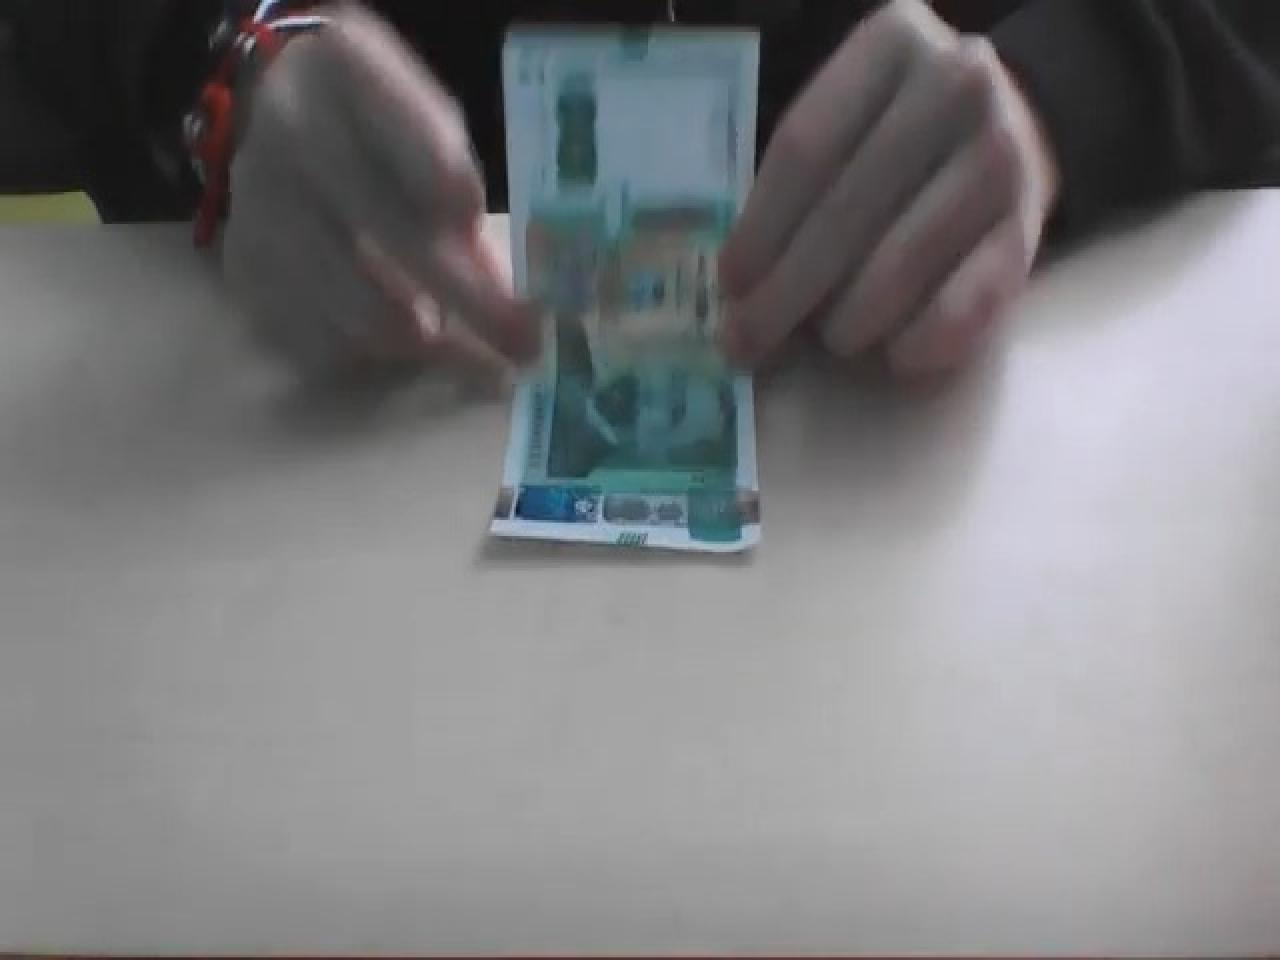100leva: (488, 21, 764, 563)
